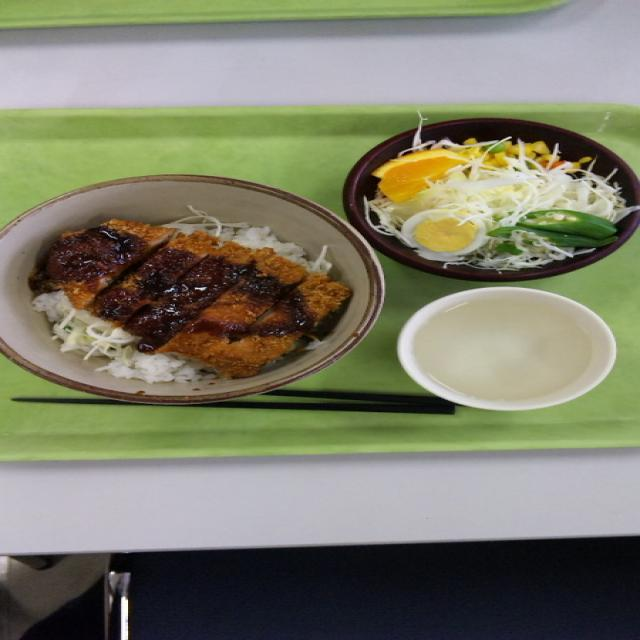Green Salad: (369, 134, 625, 265)
